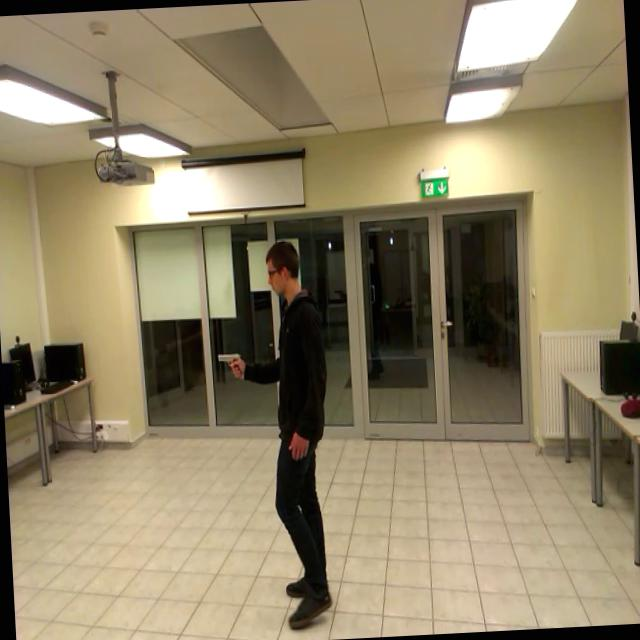handgun: (206, 342, 250, 388)
